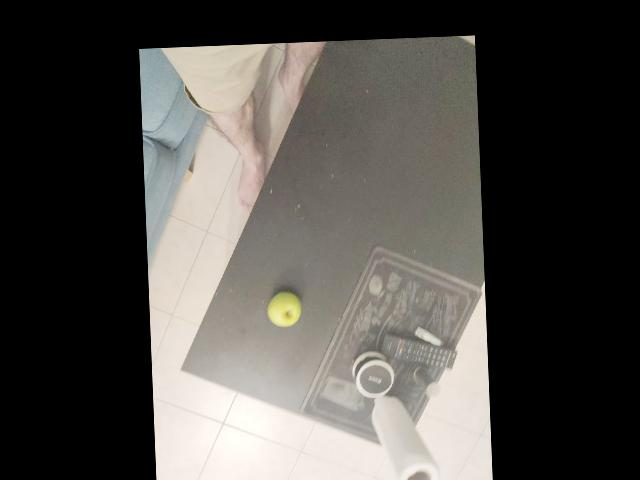apple: (276, 333, 325, 374)
